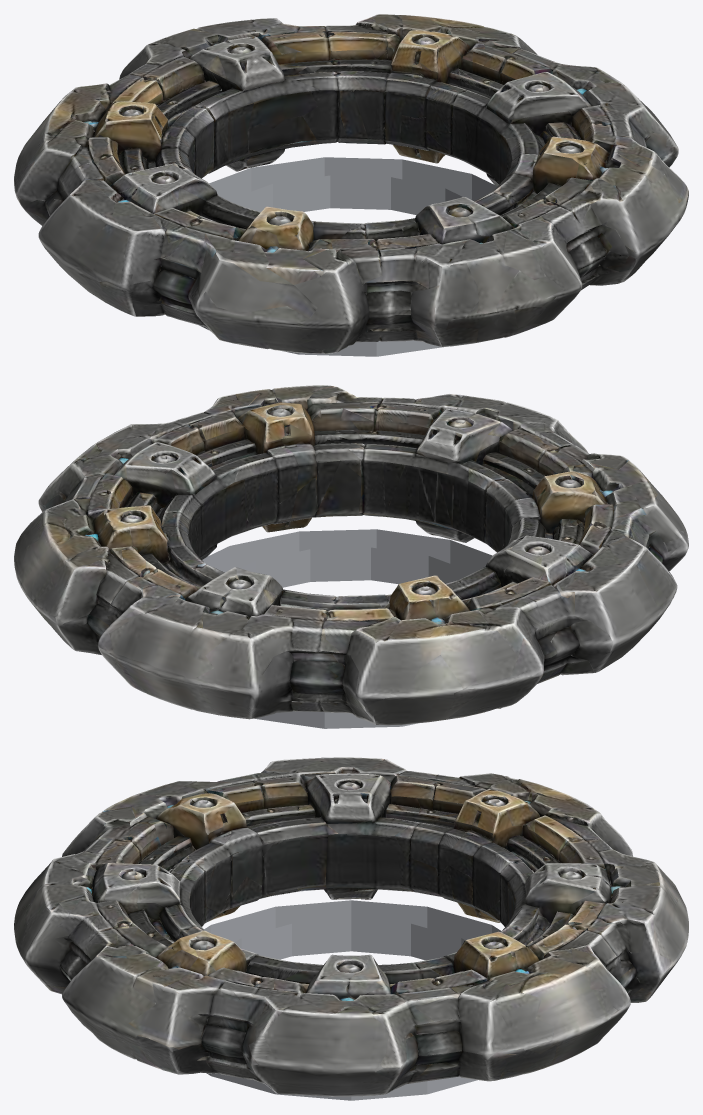
Rendered from millstone.glb.
3 views of the same model, one above another, from view 1: azimuth 30°, elevation 25°; view 2: azimuth 150°, elevation 25°; view 3: azimuth 270°, elevation 25° (orthographic).
Parts seen in each view (by area): view 1: mesh_node; view 2: mesh_node; view 3: mesh_node.
Boxes of the visible parts, x1,y1,x2,y2 form: mesh_node: (14, 14, 688, 356); mesh_node: (14, 385, 688, 728); mesh_node: (14, 757, 688, 1100).
Bounding box in the file's own units: 37.4 × 8.96 × 37.41.
Materials: 2 (1 with a texture image).
